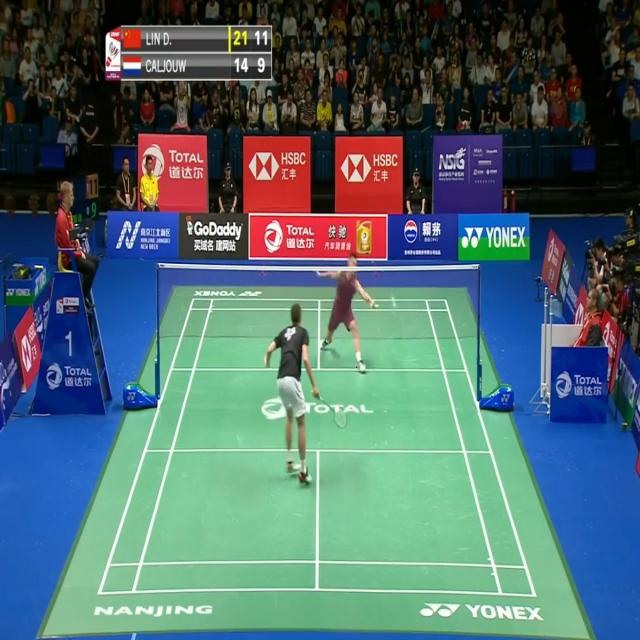Player1: (260, 301, 326, 491)
Player2: (313, 249, 383, 375)
